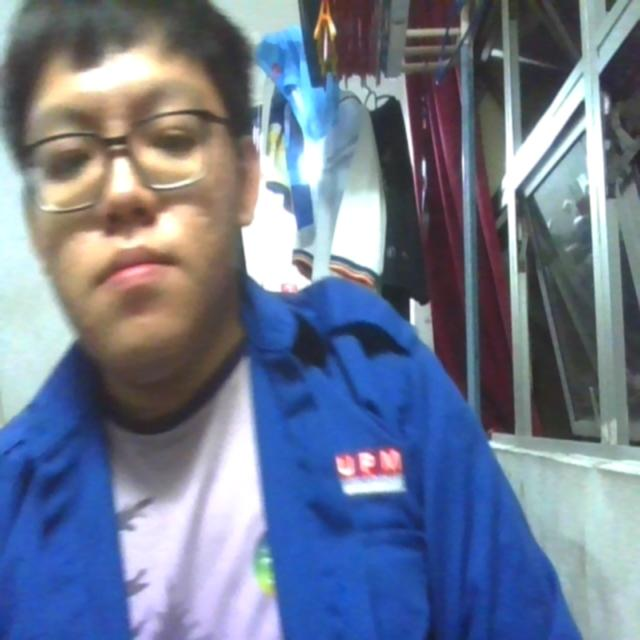person_with_labcoat: (0, 0, 579, 639)
